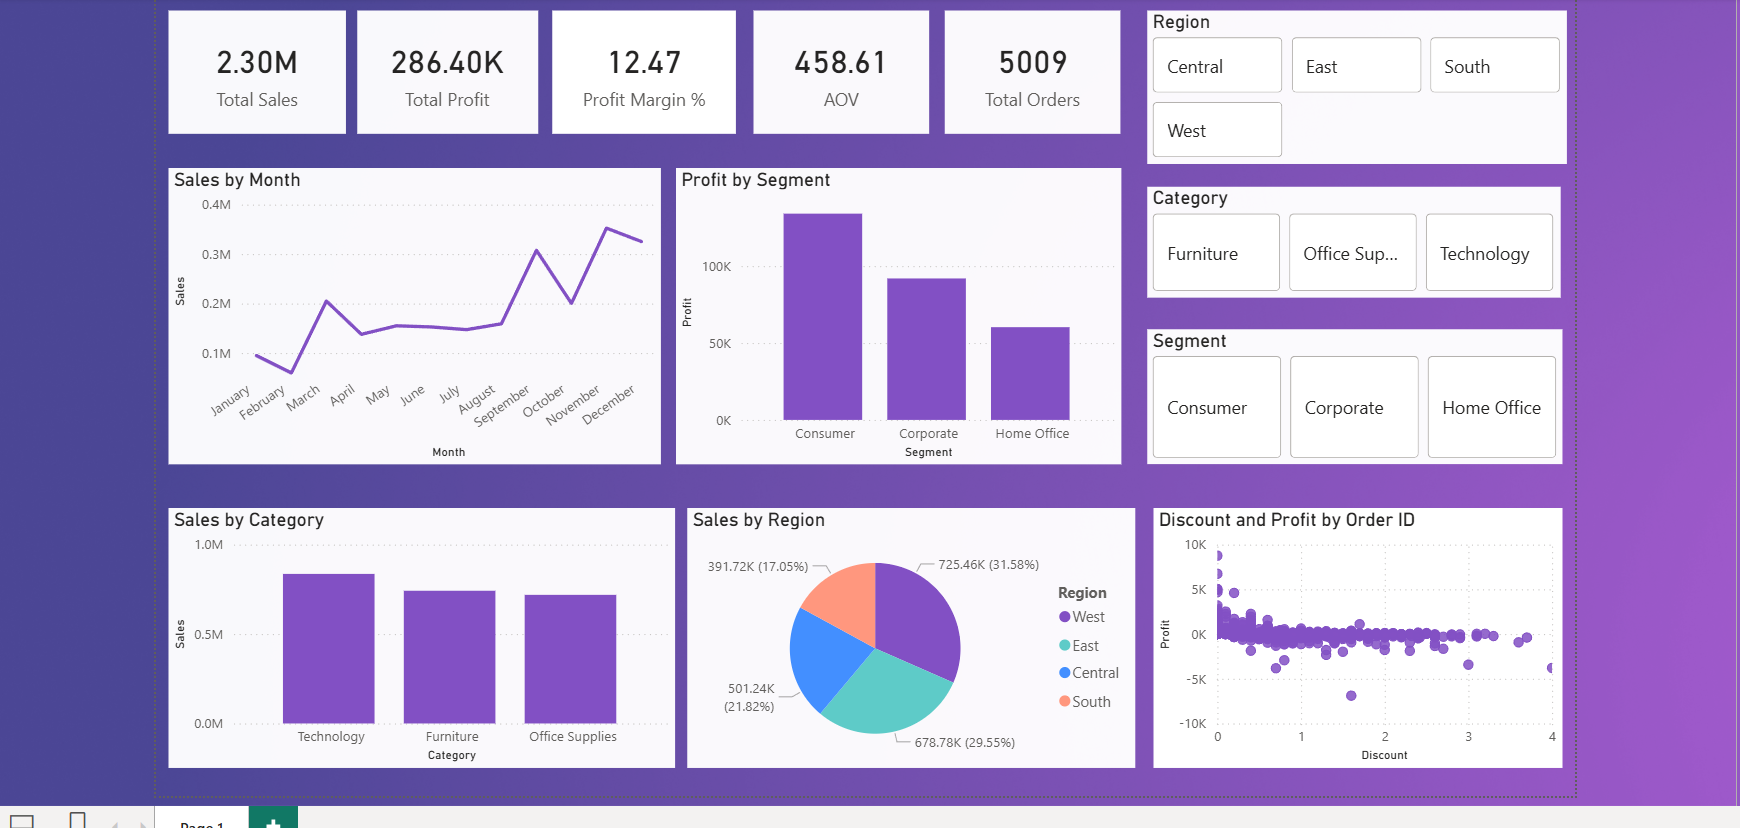

Layout of this report page (visuals, bound fields, positions):
{"tool":"powerbi","page":{"name":"Page 1","canvas":[1280,720],"ordinal":0},"visuals":[{"type":"card","fields":{"Values":["cleaned_superstore_dataset.Total Sales"]},"box":[11.4,11.4,160,111.4],"z":0},{"type":"card","fields":{"Values":["cleaned_superstore_dataset.Total Profit"]},"box":[181.4,11.4,162.9,111.4],"z":1000},{"type":"card","fields":{"Values":["cleaned_superstore_dataset.Profit Margin %"]},"box":[357.1,11.4,165.7,111.4],"z":2000},{"type":"card","fields":{"Values":["cleaned_superstore_dataset.Total Orders"]},"box":[711.4,11.4,158.6,111.4],"z":3000},{"type":"card","fields":{"Values":["cleaned_superstore_dataset.AOV"]},"box":[538.6,11.4,158.6,111.4],"z":4000},{"type":"lineChart","fields":{"Category":["cleaned_superstore_dataset.Order Date.Variation.Date Hierarchy.Month"],"Y":["Sum(cleaned_superstore_dataset.Sales)"]},"box":[11.4,152.9,444.3,267.1],"z":5000},{"type":"clusteredColumnChart","fields":{"Category":["cleaned_superstore_dataset.Category"],"Y":["Sum(cleaned_superstore_dataset.Sales)"]},"box":[11.4,460,457.1,234.3],"z":6000},{"type":"clusteredColumnChart","fields":{"Category":["cleaned_superstore_dataset.Segment"],"Y":["Sum(cleaned_superstore_dataset.Profit)"]},"box":[468.6,152.9,401.4,267.1],"z":7000},{"type":"pieChart","fields":{"Category":["cleaned_superstore_dataset.Region"],"Y":["Sum(cleaned_superstore_dataset.Sales)"]},"box":[478.6,460,404.3,234.3],"z":8000},{"type":"scatterChart","fields":{"X":["Sum(cleaned_superstore_dataset.Discount)"],"Y":["Sum(cleaned_superstore_dataset.Profit)"],"Category":["cleaned_superstore_dataset.Order ID"]},"box":[900,460,368.6,234.3],"z":9000},{"type":"advancedSlicerVisual","fields":{"Values":["cleaned_superstore_dataset.Region"]},"box":[894.3,11.4,378.6,138.6],"z":10000},{"type":"advancedSlicerVisual","fields":{"Values":["cleaned_superstore_dataset.Category"]},"box":[894.3,170,372.9,100],"z":11000},{"type":"advancedSlicerVisual","fields":{"Values":["cleaned_superstore_dataset.Segment"]},"box":[894.3,298.6,374.3,121.4],"z":12000}]}

Visuals, with their boxes in screenshot pixels (x1, y1, x2, y2):
card - cleaned_superstore_dataset.Total Sales: select_region(171, 12, 346, 135)
card - cleaned_superstore_dataset.Total Profit: select_region(357, 12, 536, 135)
card - cleaned_superstore_dataset.Profit Margin %: select_region(550, 12, 731, 135)
card - cleaned_superstore_dataset.Total Orders: select_region(938, 12, 1112, 135)
card - cleaned_superstore_dataset.AOV: select_region(749, 12, 922, 135)
lineChart - cleaned_superstore_dataset.Order Date.Variation.Date Hierarchy.Month x Sum(cleaned_superstore_dataset.Sales): select_region(171, 168, 658, 460)
clusteredColumnChart - cleaned_superstore_dataset.Category x Sum(cleaned_superstore_dataset.Sales): select_region(171, 504, 672, 761)
clusteredColumnChart - cleaned_superstore_dataset.Segment x Sum(cleaned_superstore_dataset.Profit): select_region(672, 168, 1112, 460)
pieChart - cleaned_superstore_dataset.Region x Sum(cleaned_superstore_dataset.Sales): select_region(683, 504, 1126, 761)
scatterChart - Sum(cleaned_superstore_dataset.Discount) x Sum(cleaned_superstore_dataset.Profit): select_region(1145, 504, 1548, 761)
advancedSlicerVisual - cleaned_superstore_dataset.Region: select_region(1138, 12, 1553, 164)
advancedSlicerVisual - cleaned_superstore_dataset.Category: select_region(1138, 186, 1547, 296)
advancedSlicerVisual - cleaned_superstore_dataset.Segment: select_region(1138, 327, 1548, 460)
